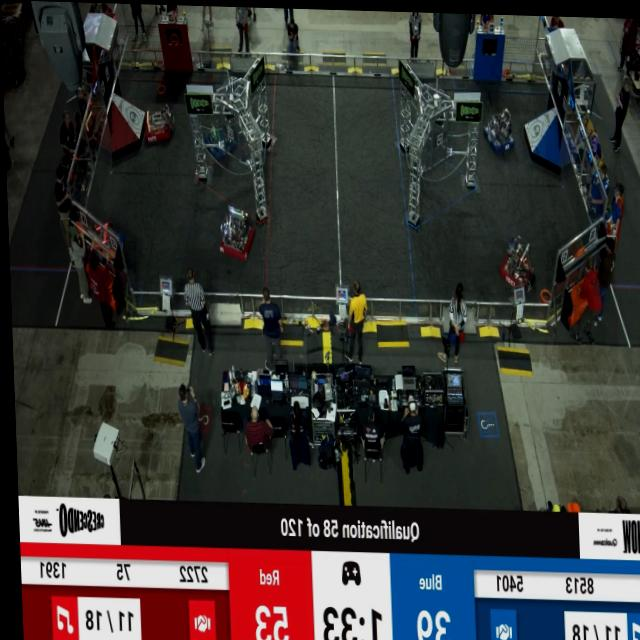Robot: (80, 210, 126, 276), (214, 200, 253, 262), (497, 230, 535, 293), (483, 101, 515, 153), (202, 111, 234, 162), (140, 101, 173, 146)
